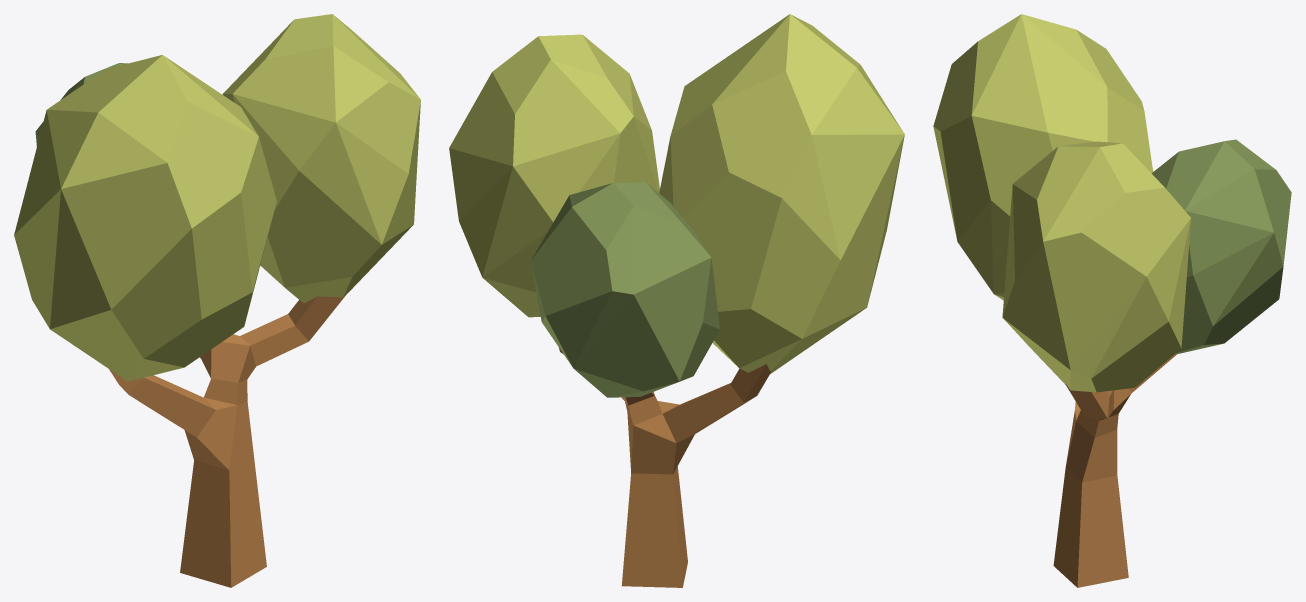
The model's file is tree.glb.
The picture shows the model from 3 angles, left to right: view 1: azimuth 30°, elevation 25°; view 2: azimuth 150°, elevation 25°; view 3: azimuth 270°, elevation 25°; orthographic projection. The views are drawn at different scales.
Parts seen in each view (by area): view 1: SavannahTree_02.001; view 2: SavannahTree_02.001; view 3: SavannahTree_02.001.
Part boxes in pixels (x1,y1,x2,y2): SavannahTree_02.001: [14, 14, 420, 587]; SavannahTree_02.001: [449, 14, 904, 587]; SavannahTree_02.001: [933, 14, 1291, 587].
Bounding box in the file's own units: 7.85 × 10.93 × 6.9.
